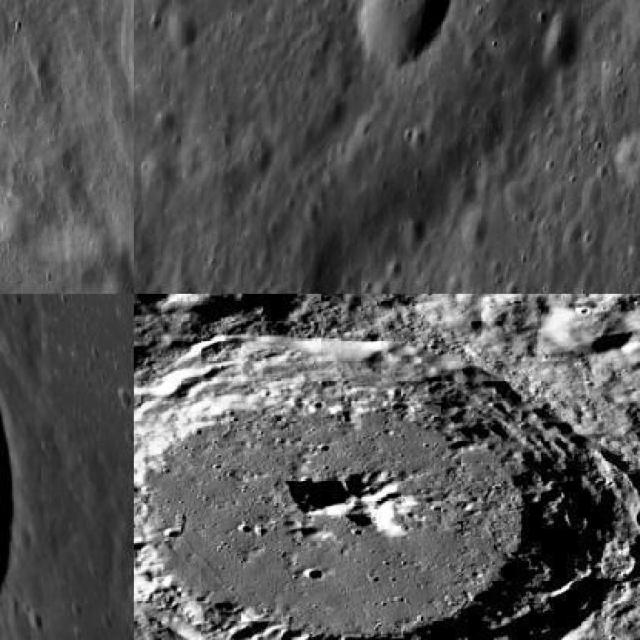crater: (134, 343, 611, 639), (356, 0, 450, 69)
